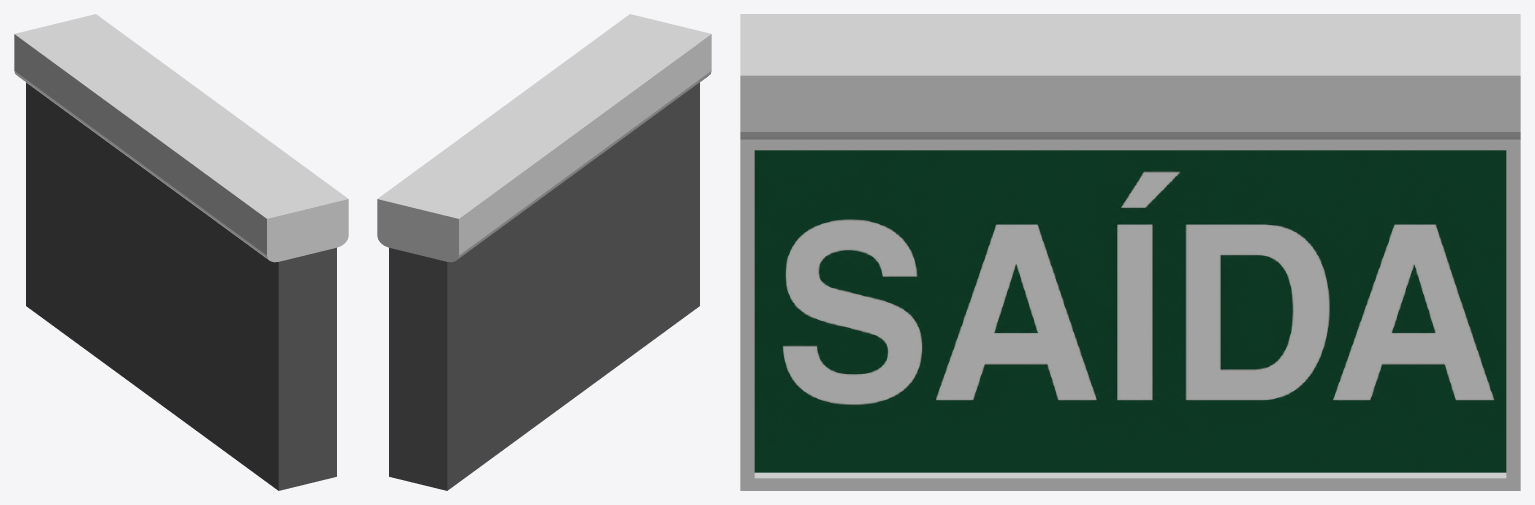
The model's file is saida.fbx.
The picture shows the model from 3 angles, left to right: view 1: azimuth 30°, elevation 25°; view 2: azimuth 150°, elevation 25°; view 3: azimuth 270°, elevation 25°; orthographic projection. The views are drawn at different scales.
Visible parts, largest first — view 1: Exit_Sign; view 2: Exit_Sign; view 3: Exit_Sign.
Boxes of the visible parts, left/top/right/bottom form: Exit_Sign: left=14, top=14, right=348, bottom=490; Exit_Sign: left=377, top=14, right=711, bottom=490; Exit_Sign: left=740, top=14, right=1520, bottom=490.
Size of the model in its own units: 56 by 180 by 300.
3 materials, 1 textured.
